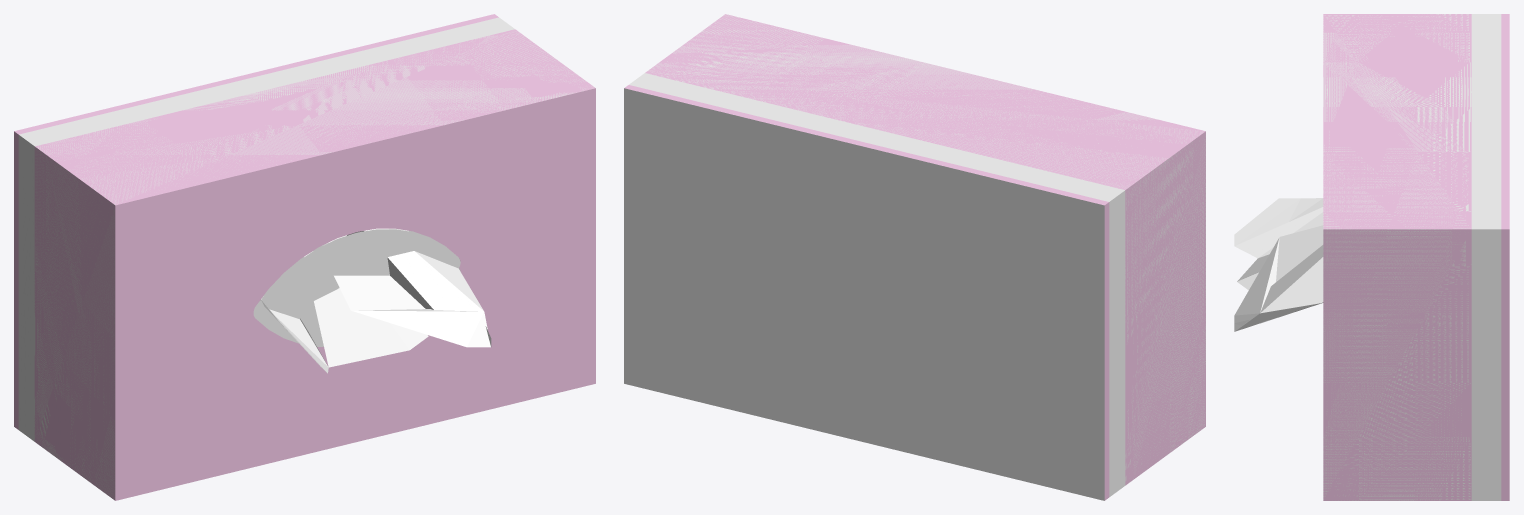
3 renders of one model, left to right at view 1: azimuth 30°, elevation 25°; view 2: azimuth 150°, elevation 25°; view 3: azimuth 270°, elevation 25°, orthographic. The views are drawn at different scales.
Parts seen in each view (by area): view 1: tissue box; view 2: tissue box; view 3: tissue box.
Part boxes in pixels (<box>): tissue box: <box>14,14,595,500</box>; tissue box: <box>624,14,1205,500</box>; tissue box: <box>1234,14,1509,500</box>.
Bounding box in the file's own units: 925 × 544 × 500.
